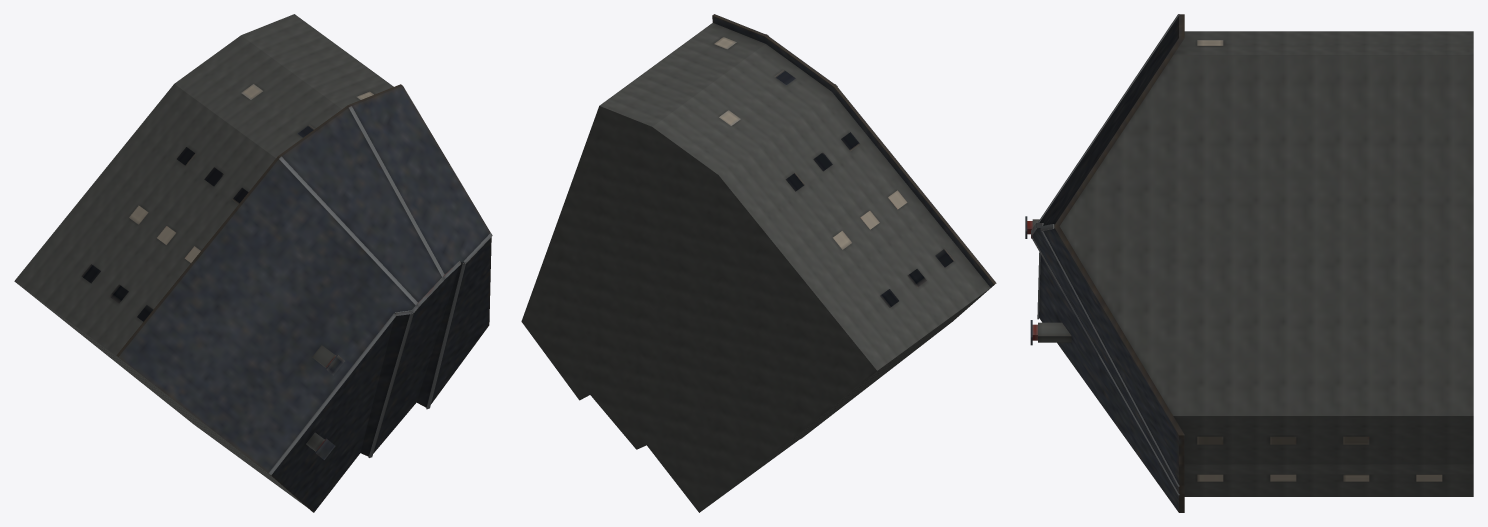
File: house_b0127.obj
The picture shows the model from 3 angles, left to right: view 1: azimuth 30°, elevation 25°; view 2: azimuth 150°, elevation 25°; view 3: azimuth 270°, elevation 25°; orthographic projection. The views are drawn at different scales.
Parts seen in each view (by area): view 1: house_b0127; view 2: house_b0127; view 3: house_b0127.
Part boxes in pixels (<box>): house_b0127: <box>14,14,492,512</box>; house_b0127: <box>521,14,996,512</box>; house_b0127: <box>1025,14,1473,512</box>.
Bounding box in the file's own units: 23.1 × 24.13 × 18.44.
1 material, 1 textured.
